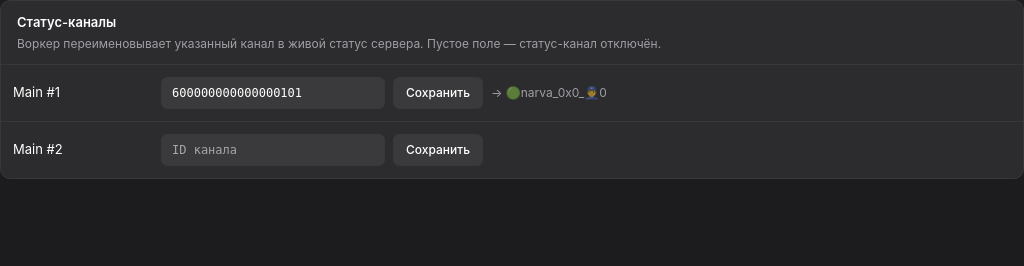
DiscordStatusChannelsSection › does not report a save failure when only the reload after a successful save fails (#707)
Type "600000000000000202" into the field named "ID статус-канала для Main #2" at (273, 150), box [161, 134, 385, 166]
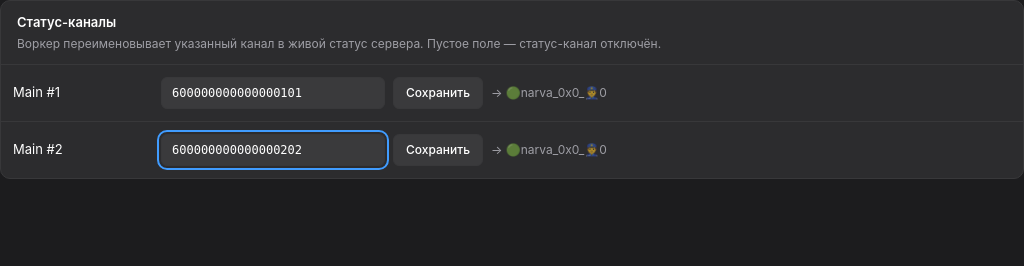
Click the button with aria-label "Сохранить статус-канал Main #2" at (438, 150), box [393, 134, 483, 166]
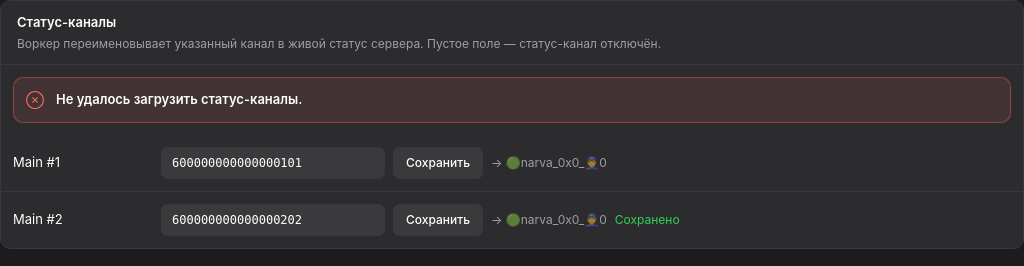
Now the message shows "Не удалось загрузить статус-каналы.", box [56, 91, 302, 107]
